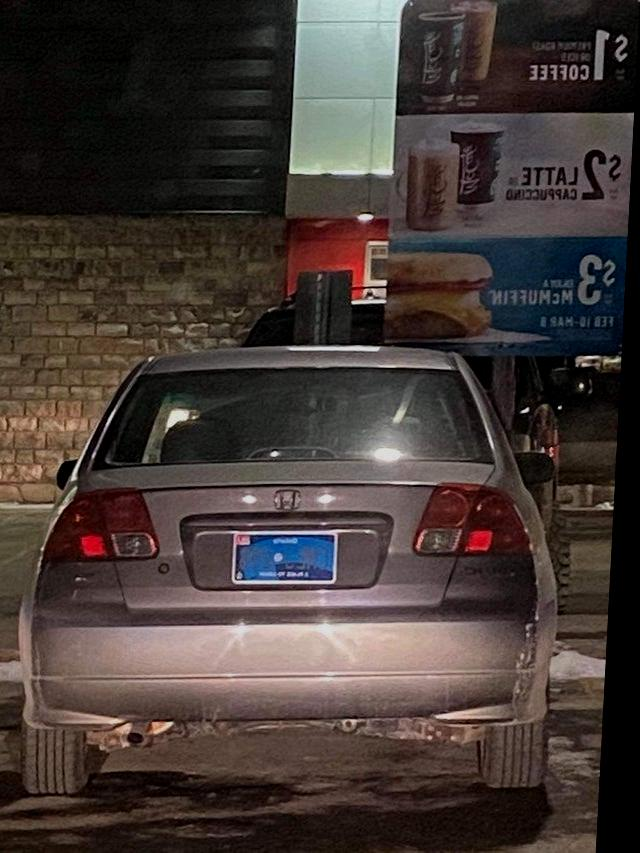License_Plate: (210, 523, 344, 593)
